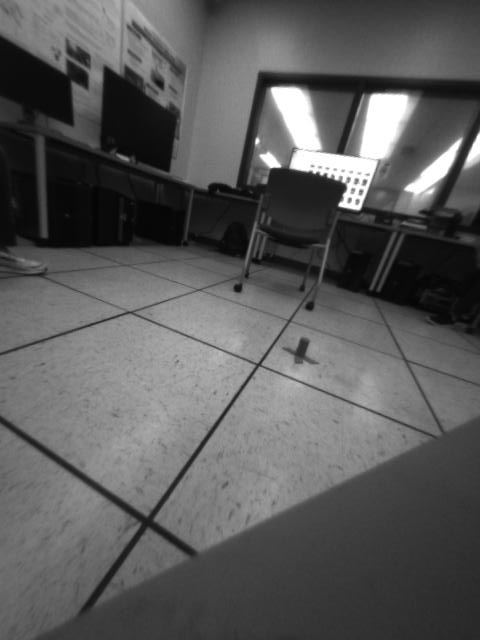X: (281, 337, 320, 366)
